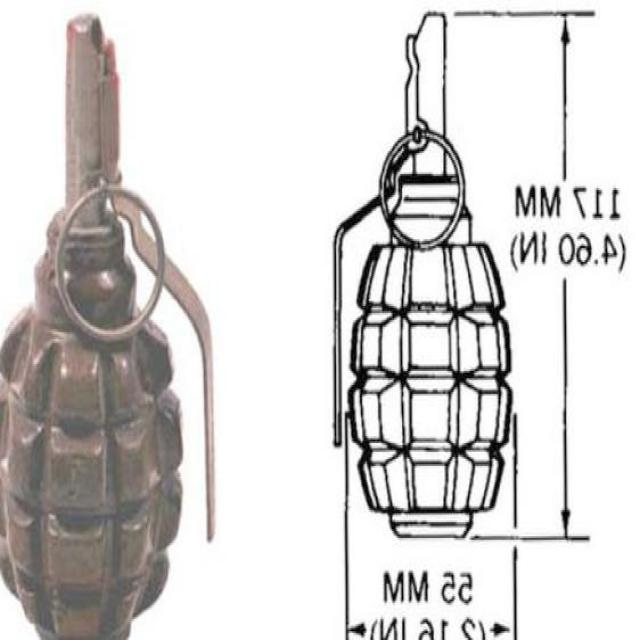grenade: (2, 14, 215, 640), (335, 15, 515, 541)
